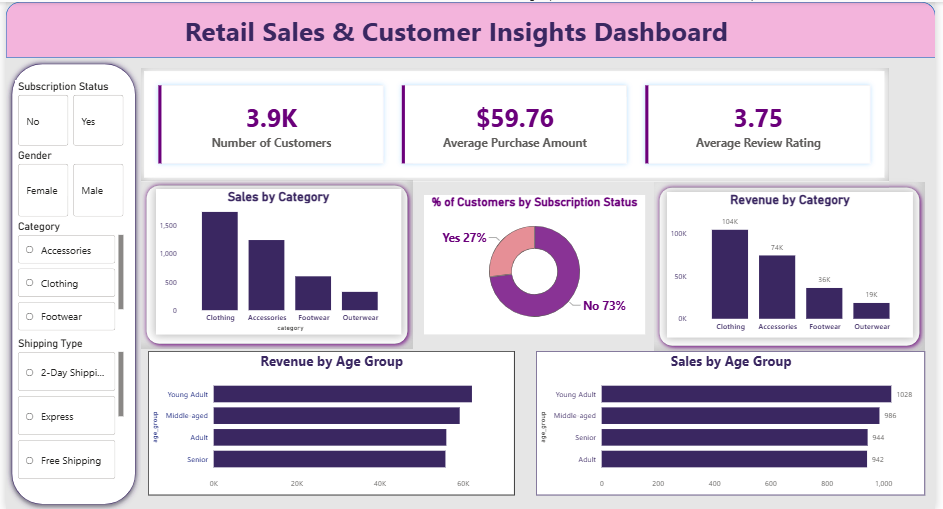

The dashboard page shown, as its layout file describes it:
{"tool":"powerbi","page":{"name":"Page 1","canvas":[1500,820],"ordinal":0},"visuals":[{"type":"cardVisual","fields":{"Data":["public customer.Number of  Customers","public customer.Average Purchase Amount","public customer.Average Review Rating"]},"box":[217.9,107.3,1206.7,182.7],"z":0},{"type":"shape","box":[0,0,1500.6,90.2],"z":1000},{"type":"textbox","box":[119.7,11.5,1215.2,67.2],"z":2000},{"type":"shape","box":[217.9,286.6,439.1,273.2],"z":3000},{"type":"donutChart","title":"% of Customers by Subscription Status","fields":{"Category":["public customer.subscription_status"],"Y":["CountNonNull(public customer.customer_id)"]},"box":[675.4,311.7,357,224.6],"z":4000},{"type":"shape","box":[1045.8,289.9,437.4,273.2],"z":6000},{"type":"clusteredColumnChart","title":"Revenue by Category","fields":{"Y":["Sum(public customer.purchase_amount)"],"Category":["public customer.category"]},"box":[1067.6,306.7,397.2,234.6],"z":7000},{"type":"clusteredColumnChart","title":"Sales by Category","fields":{"Category":["public customer.category"],"Y":["CountNonNull(public customer.customer_id)"]},"box":[241.3,301.7,395.5,234.6],"z":8000},{"type":"shape","box":[0,90.2,218.1,729.8],"z":9000},{"type":"advancedSlicerVisual","fields":{"Values":["public customer.subscription_status"]},"box":[14.8,126.3,180.4,111.5],"z":10000},{"type":"advancedSlicerVisual","fields":{"Values":["public customer.gender"]},"box":[14.8,237.8,180.4,114.8],"z":11000},{"type":"advancedSlicerVisual","fields":{"Values":["public customer.category"]},"box":[14.8,352.6,180.4,183.7],"z":12000},{"type":"advancedSlicerVisual","fields":{"Values":["public customer.shipping_type"]},"box":[14.8,541.2,180.4,236.2],"z":13000},{"type":"clusteredBarChart","title":"Revenue by Age Group","fields":{"Y":["Sum(public customer.purchase_amount)"],"Category":["public customer.age_group"]},"box":[229.6,563.1,591.6,233],"z":14000},{"type":"clusteredBarChart","title":"Sales by Age Group","fields":{"Y":["CountNonNull(public customer.customer_id)"],"Category":["public customer.age_group"]},"box":[854.7,563.1,628.5,233],"z":15002}]}

Visuals, with their boxes in screenshot pixels (x1, y1, x2, y2), scaled from the page's 1500x820 canvas onto the 943x509 screenshot:
cardVisual - public customer.Number of  Customers x public customer.Average Purchase Amount: bbox=(137, 67, 896, 180)
shape: bbox=(0, 0, 942, 56)
textbox: bbox=(75, 7, 839, 49)
shape: bbox=(137, 178, 413, 347)
"% of Customers by Subscription Status" donutChart: bbox=(425, 193, 649, 333)
shape: bbox=(657, 180, 932, 350)
"Revenue by Category" clusteredColumnChart: bbox=(671, 190, 921, 336)
"Sales by Category" clusteredColumnChart: bbox=(152, 187, 400, 333)
shape: bbox=(0, 56, 137, 508)
advancedSlicerVisual - public customer.subscription_status: bbox=(9, 78, 123, 148)
advancedSlicerVisual - public customer.gender: bbox=(9, 148, 123, 219)
advancedSlicerVisual - public customer.category: bbox=(9, 219, 123, 333)
advancedSlicerVisual - public customer.shipping_type: bbox=(9, 336, 123, 483)
"Revenue by Age Group" clusteredBarChart: bbox=(144, 350, 516, 494)
"Sales by Age Group" clusteredBarChart: bbox=(537, 350, 932, 494)
